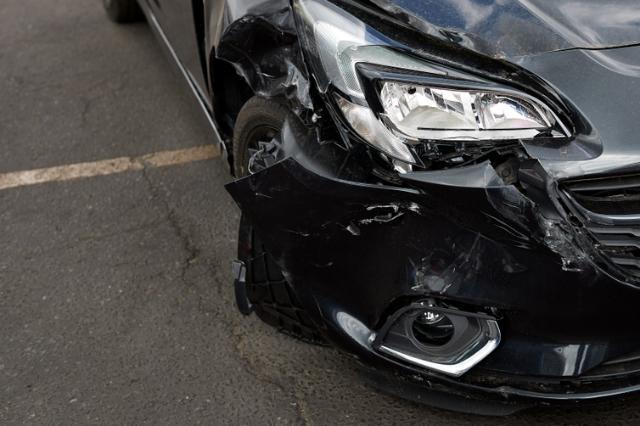Bumper: (282, 142, 640, 382)
Light: (297, 0, 584, 155)
